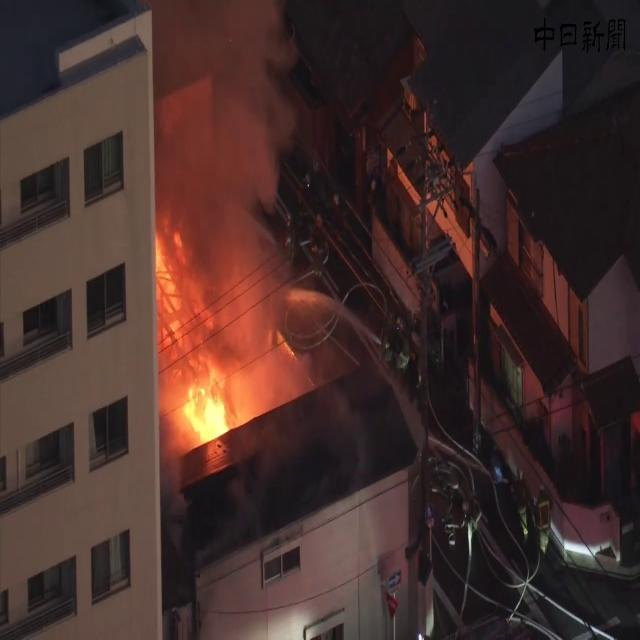Fire: (169, 364, 238, 448)
Smoke: (154, 0, 312, 302)
